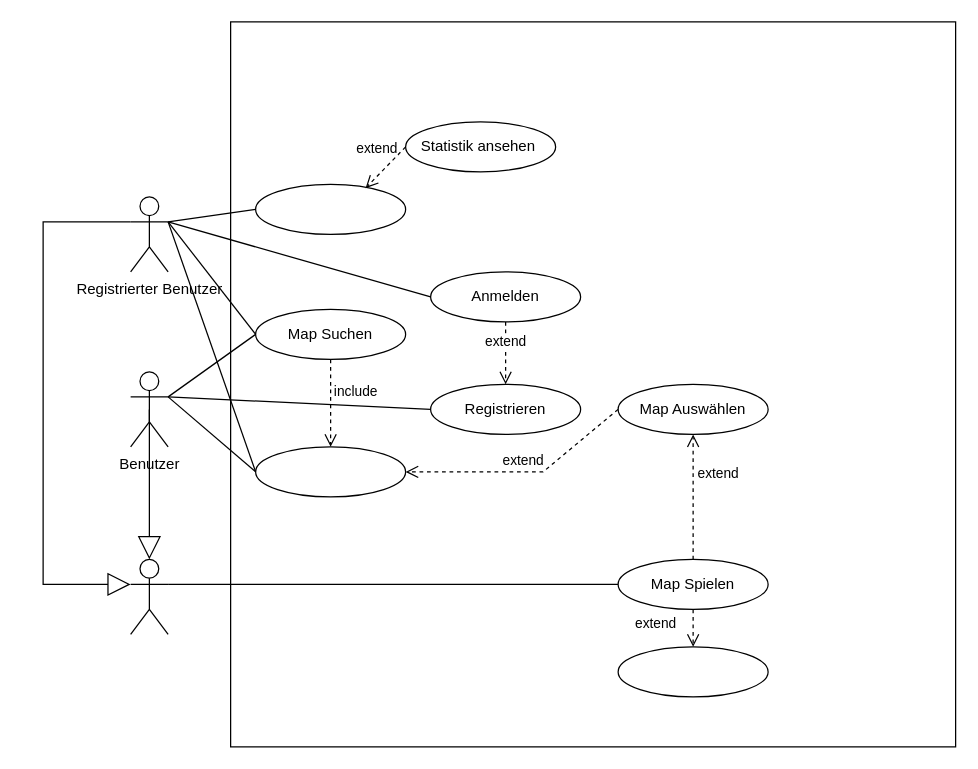
Some shapes in this 978 by 769 pixel diagram are drawn without their labels. The shapes that lost their labels are listed below. From the top down, each one's box as (x1, y1, x2, y2) in pixels, then its label:
(254, 183, 406, 234): Neue Map Erstellen
(254, 446, 406, 497): Maps anzeigen lassen
(129, 558, 168, 634): Der Spieler
(617, 646, 768, 697): Map beenden
